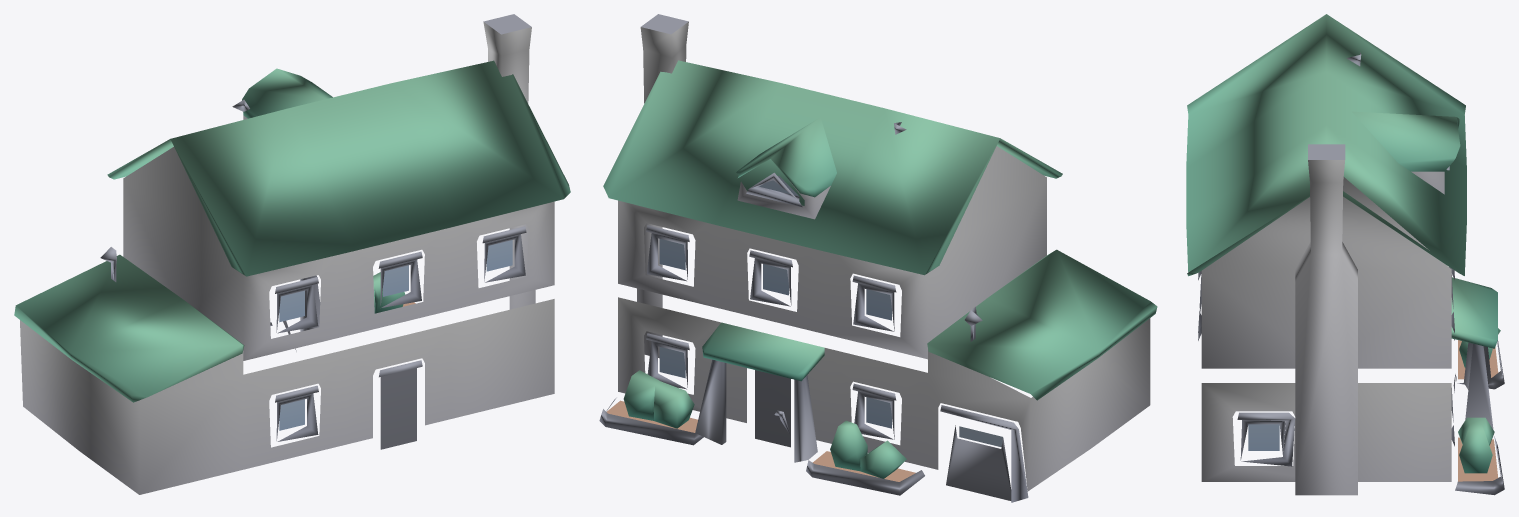
3 views of the same model, side by side, from view 1: azimuth 30°, elevation 25°; view 2: azimuth 150°, elevation 25°; view 3: azimuth 270°, elevation 25° (orthographic). The views are drawn at different scales.
Bounding box in the file's own units: 13.97 × 9.9 × 8.15.
